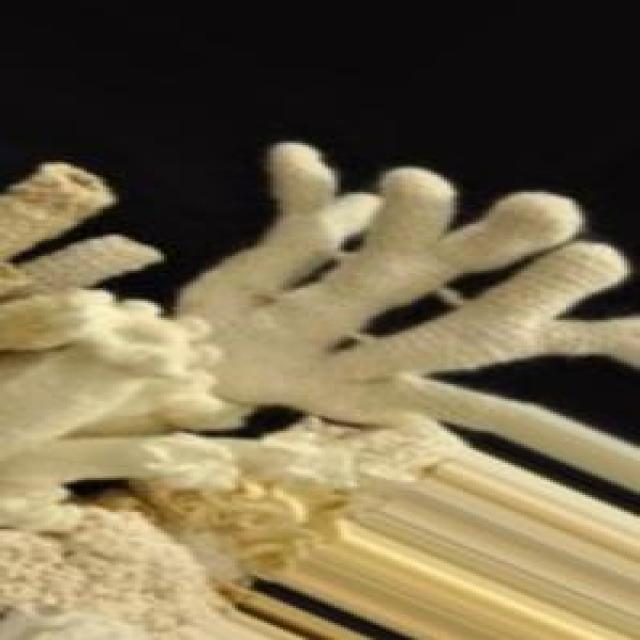Bleached: (3, 144, 638, 640)
